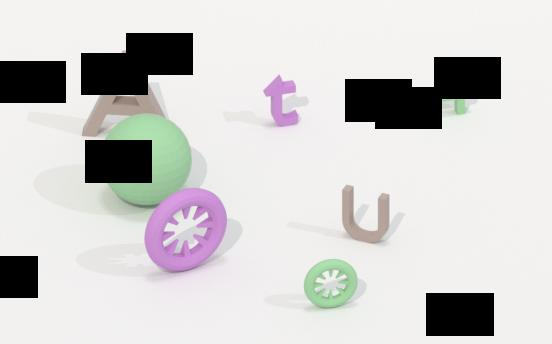4: (429, 59, 477, 117)
A-hoa: (78, 49, 175, 140)
cau: (92, 113, 198, 206)
t: (258, 73, 305, 130)
tron: (138, 190, 234, 272), (302, 257, 358, 309)
u: (334, 183, 399, 245)
